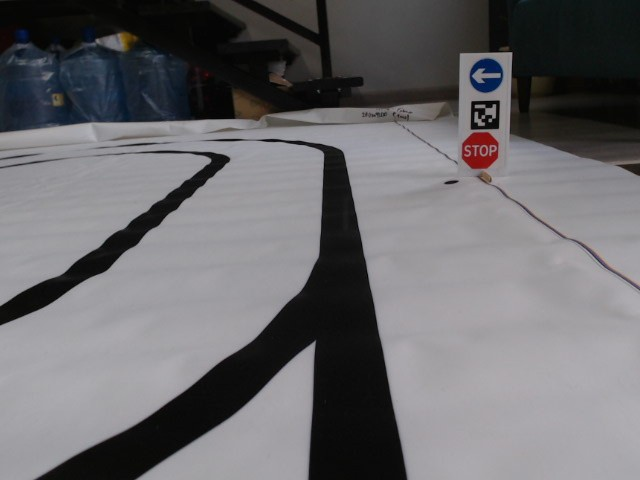Stop: (460, 130, 500, 170)
